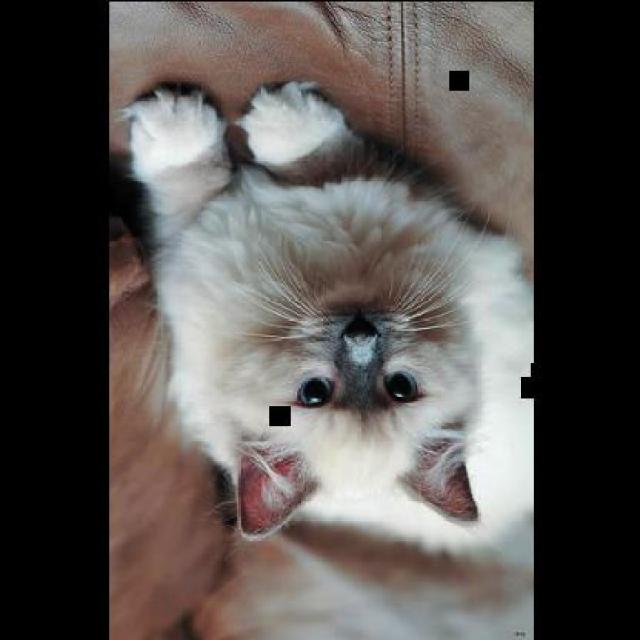unauthorized: (112, 77, 534, 638)
